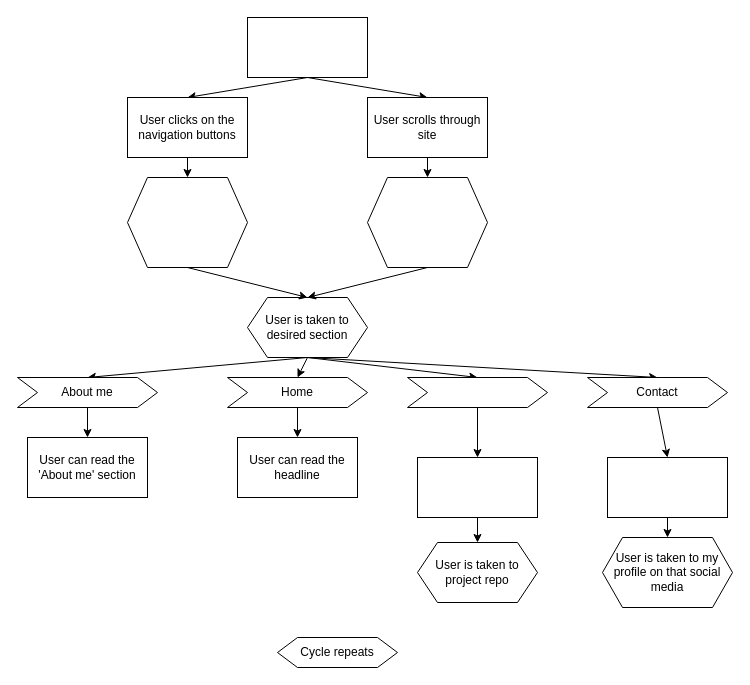
This 750x685 diagram has some shape labels left out. Each missing label, with the centre of its shape:
Content fades out and in as user fades: point (427, 222)
Page jumps to sections: point (187, 222)
Projects: point (477, 392)
User clicks on repo image: point (477, 487)
User clicks on social media image: point (667, 487)
User navigates to the site: point (307, 47)
